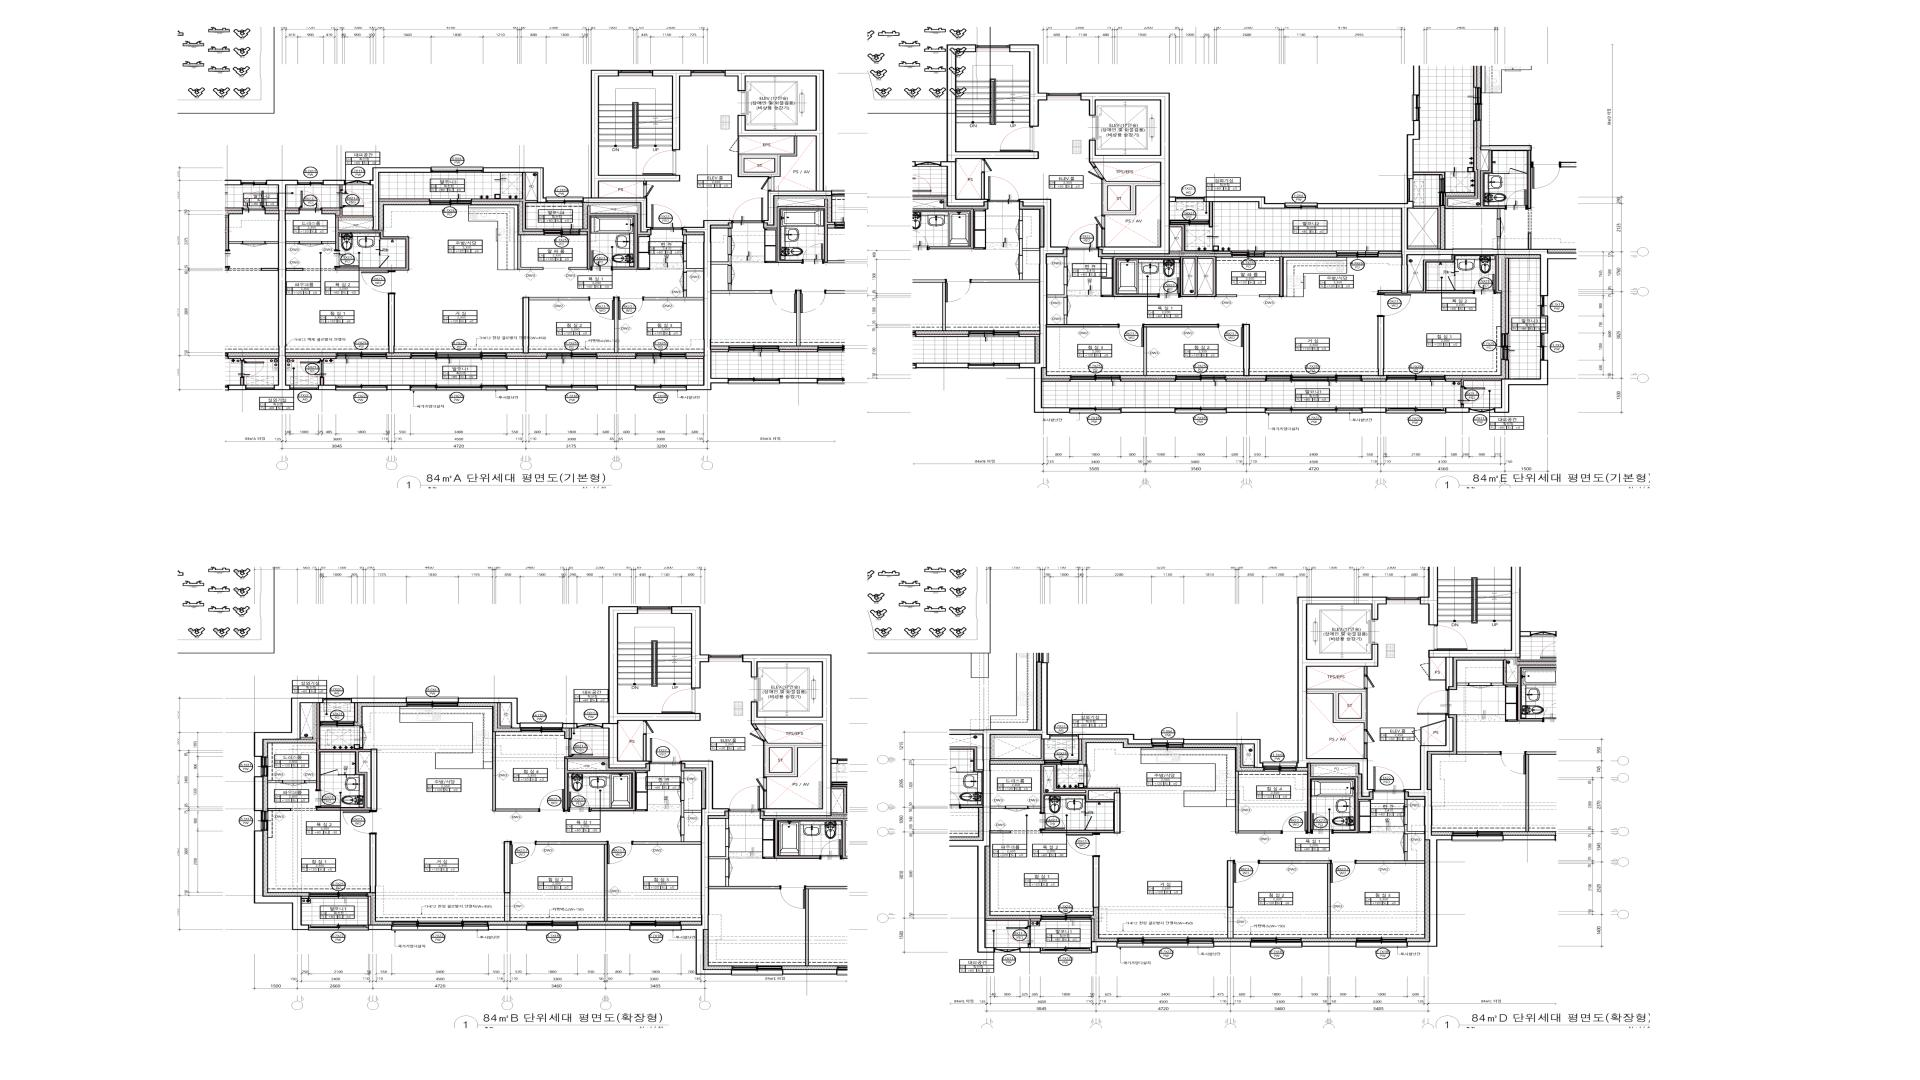door: (1000, 127, 1034, 152), (642, 150, 676, 175), (662, 688, 696, 713), (1373, 766, 1404, 793), (651, 204, 683, 231), (1067, 224, 1098, 251), (1435, 625, 1468, 650), (361, 270, 396, 294), (650, 738, 680, 765), (1067, 833, 1100, 857), (1377, 294, 1411, 316), (343, 811, 377, 833), (1233, 860, 1261, 884), (617, 297, 645, 320), (607, 841, 633, 865), (1331, 860, 1357, 884), (1218, 323, 1244, 347), (1118, 323, 1143, 347), (589, 297, 615, 320), (510, 841, 537, 864), (539, 790, 564, 812), (1282, 811, 1307, 833), (1039, 812, 1065, 831), (1158, 277, 1180, 298), (568, 791, 591, 812), (591, 251, 613, 272), (299, 190, 322, 211), (1461, 386, 1486, 405), (568, 738, 593, 757), (339, 190, 364, 207), (315, 790, 340, 807), (1006, 927, 1031, 944), (334, 251, 359, 268), (1474, 274, 1495, 294), (1312, 814, 1333, 833), (299, 361, 324, 377), (748, 729, 766, 745), (1085, 167, 1105, 181), (729, 136, 740, 154), (756, 777, 767, 791), (1364, 729, 1375, 744), (644, 182, 654, 198), (1364, 675, 1375, 688), (1084, 765, 1091, 787), (360, 727, 367, 749), (1006, 806, 1029, 812), (1095, 215, 1105, 228), (981, 160, 992, 173), (644, 721, 654, 735), (378, 255, 389, 268), (1448, 274, 1456, 290), (320, 769, 339, 775), (299, 241, 322, 247), (1084, 815, 1092, 829), (284, 781, 305, 786)
wall: (1316, 200, 1548, 297), (1298, 596, 1387, 796), (725, 70, 832, 225), (977, 731, 1051, 953), (583, 70, 680, 232), (603, 607, 700, 769), (1081, 92, 1176, 255), (947, 45, 1039, 207), (742, 655, 831, 816), (1428, 543, 1522, 690), (1404, 715, 1455, 947), (1019, 199, 1071, 413), (680, 761, 732, 975), (683, 220, 733, 390), (266, 179, 298, 390), (316, 703, 371, 811), (537, 841, 608, 922), (255, 831, 309, 930), (1261, 861, 1331, 938), (471, 173, 545, 232), (1113, 256, 1217, 297), (253, 698, 323, 757), (369, 167, 431, 231), (335, 218, 409, 270), (1040, 765, 1121, 812), (522, 297, 589, 353), (1143, 324, 1217, 376), (492, 732, 539, 811), (580, 206, 638, 269), (564, 760, 636, 811), (1307, 764, 1358, 833), (651, 70, 692, 150), (671, 605, 709, 688), (1420, 543, 1458, 625), (1010, 45, 1047, 127), (1236, 771, 1282, 833), (1494, 360, 1548, 413), (1408, 256, 1474, 293), (1308, 688, 1367, 729), (1183, 738, 1263, 767), (483, 167, 547, 203), (764, 740, 822, 777), (1101, 179, 1160, 215), (459, 698, 521, 728), (1170, 224, 1232, 253), (990, 740, 1044, 761), (1042, 767, 1085, 793), (1204, 196, 1286, 208), (517, 235, 543, 270), (1047, 315, 1118, 327), (1357, 852, 1424, 864), (1077, 735, 1153, 745), (1420, 720, 1445, 745), (644, 290, 703, 301), (1226, 860, 1234, 939), (633, 836, 700, 845), (1338, 694, 1361, 719), (504, 841, 510, 922), (371, 749, 377, 811), (1092, 857, 1100, 907), (369, 835, 376, 894), (1378, 316, 1385, 376), (388, 294, 394, 352), (336, 207, 372, 218), (253, 777, 264, 811), (680, 800, 702, 818), (1429, 658, 1445, 680), (1244, 324, 1250, 376), (497, 703, 510, 728), (1240, 745, 1254, 767), (1091, 942, 1117, 953), (1461, 378, 1501, 386), (351, 698, 407, 703), (1506, 258, 1510, 334), (986, 919, 1031, 926), (1121, 407, 1176, 413), (1302, 942, 1357, 947), (1040, 829, 1114, 833), (576, 924, 630, 930), (1114, 793, 1121, 833), (286, 356, 336, 361), (1047, 285, 1067, 298), (1495, 255, 1502, 294), (683, 261, 703, 273), (615, 297, 618, 353), (1120, 378, 1176, 382), (1225, 407, 1266, 413), (506, 385, 546, 390), (488, 924, 527, 930), (1279, 257, 1284, 297), (597, 385, 636, 390), (1213, 942, 1251, 947), (1265, 251, 1337, 253), (1404, 825, 1424, 835), (1225, 378, 1267, 382), (323, 179, 345, 186), (1019, 947, 1042, 953), (1540, 316, 1548, 334), (1362, 407, 1387, 413), (1445, 407, 1470, 413), (380, 199, 430, 202), (386, 385, 411, 390), (368, 924, 392, 930), (564, 757, 608, 760), (1042, 378, 1071, 382), (1077, 740, 1083, 761), (506, 356, 547, 359), (981, 173, 985, 199), (596, 356, 636, 359), (642, 735, 646, 761), (1209, 202, 1213, 228), (318, 385, 336, 390), (1378, 290, 1402, 294), (1091, 919, 1095, 942), (562, 723, 578, 728), (353, 703, 357, 723), (322, 207, 340, 211), (368, 897, 371, 924), (1506, 360, 1510, 378), (1101, 228, 1105, 247), (1361, 380, 1387, 382), (764, 791, 767, 808), (386, 356, 411, 359), (268, 808, 291, 811), (1445, 378, 1461, 382), (1378, 251, 1402, 253), (1364, 744, 1367, 758), (990, 831, 1011, 833), (1089, 162, 1097, 169), (1259, 294, 1279, 297), (1217, 294, 1237, 297), (568, 268, 587, 270), (680, 771, 684, 783), (286, 268, 303, 270), (686, 356, 703, 359), (319, 377, 324, 385), (990, 806, 1006, 808), (268, 781, 284, 783), (683, 235, 687, 244), (568, 729, 572, 738), (286, 241, 299, 244), (322, 241, 335, 244), (286, 208, 299, 211), (1364, 667, 1367, 675), (1404, 799, 1408, 807), (1029, 806, 1040, 808), (305, 781, 316, 783), (301, 737, 313, 740), (1101, 257, 1113, 260), (1031, 919, 1042, 922), (752, 725, 758, 729), (1064, 257, 1067, 266), (302, 897, 309, 899), (339, 186, 343, 190), (1101, 295, 1113, 297), (1027, 944, 1031, 947), (1461, 405, 1464, 407)
window: (392, 920, 488, 931), (1117, 938, 1213, 948), (410, 385, 506, 392), (1266, 407, 1362, 414), (411, 352, 506, 359), (1266, 375, 1361, 381), (407, 696, 459, 707), (630, 920, 680, 931), (1357, 938, 1407, 948), (1251, 938, 1302, 948), (527, 922, 578, 931), (520, 723, 563, 732), (309, 924, 368, 931), (309, 893, 368, 899), (1176, 375, 1225, 382), (1387, 407, 1445, 414), (546, 385, 597, 392), (431, 166, 483, 173), (1040, 947, 1091, 953), (336, 352, 386, 359), (636, 352, 686, 359), (636, 385, 686, 392), (1176, 407, 1226, 414), (1071, 407, 1121, 414), (1071, 375, 1121, 381), (1042, 915, 1091, 922), (547, 352, 596, 359), (1263, 762, 1298, 771), (1387, 376, 1445, 381), (1153, 738, 1183, 748), (545, 228, 579, 236), (430, 199, 471, 206), (1337, 251, 1378, 257), (336, 385, 386, 390), (709, 654, 742, 662), (255, 811, 268, 831), (255, 757, 268, 777), (1047, 92, 1080, 100), (1501, 334, 1510, 360), (547, 196, 583, 203), (638, 607, 671, 613), (1458, 543, 1491, 550), (1387, 597, 1420, 604), (1232, 251, 1265, 257), (1540, 334, 1548, 360), (1170, 220, 1209, 225), (1044, 760, 1079, 765), (320, 721, 355, 727), (976, 46, 1009, 51), (1286, 203, 1316, 208), (1540, 297, 1548, 316), (323, 698, 351, 703), (290, 385, 318, 390), (1176, 196, 1204, 202), (1051, 735, 1077, 740), (996, 947, 1019, 952), (578, 723, 601, 728), (1470, 407, 1494, 413), (298, 181, 323, 185), (345, 181, 369, 185)
